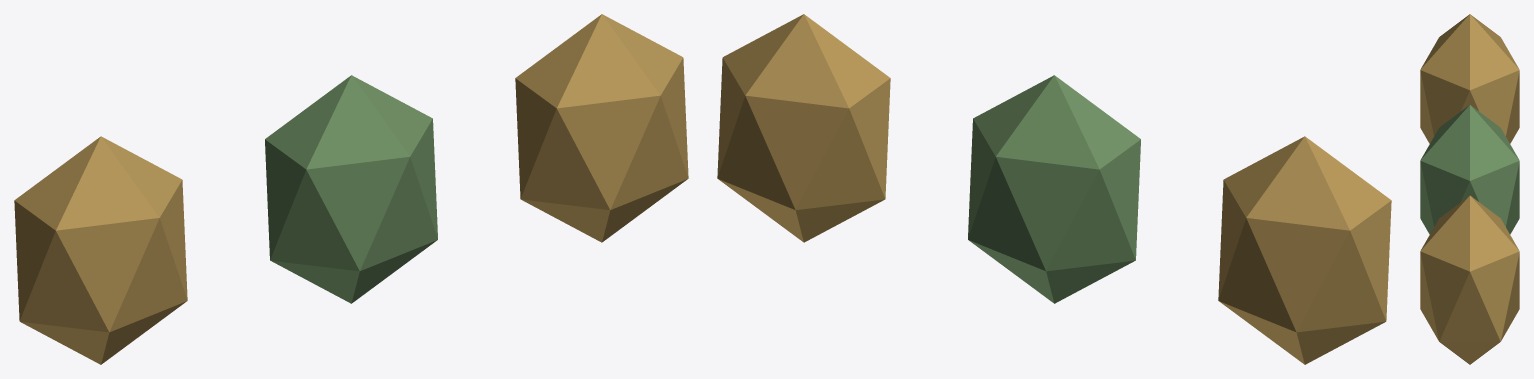
The model's file is wk_state_market_stocked_v01.glb.
3 views of the same model, side by side, from view 1: azimuth 30°, elevation 25°; view 2: azimuth 150°, elevation 25°; view 3: azimuth 270°, elevation 25° (orthographic). The views are drawn at different scales.
Visible parts, largest first — view 1: GEO_StockSack0, GEO_StockSack2, GEO_StockSack1; view 2: GEO_StockSack0, GEO_StockSack2, GEO_StockSack1; view 3: GEO_StockSack2, GEO_StockSack1, GEO_StockSack0.
Part boxes in pixels (x1=…): GEO_StockSack0: x1=14, y1=136, x2=187, y2=364; GEO_StockSack2: x1=515, y1=14, x2=688, y2=242; GEO_StockSack1: x1=265, y1=75, x2=437, y2=303; GEO_StockSack0: x1=1218, y1=136, x2=1391, y2=364; GEO_StockSack2: x1=717, y1=14, x2=890, y2=242; GEO_StockSack1: x1=968, y1=75, x2=1140, y2=303; GEO_StockSack2: x1=1420, y1=195, x2=1519, y2=364; GEO_StockSack1: x1=1420, y1=105, x2=1519, y2=234; GEO_StockSack0: x1=1420, y1=14, x2=1519, y2=143.
Bounding box in the file's own units: 1.46 × 0.48 × 0.2552.
